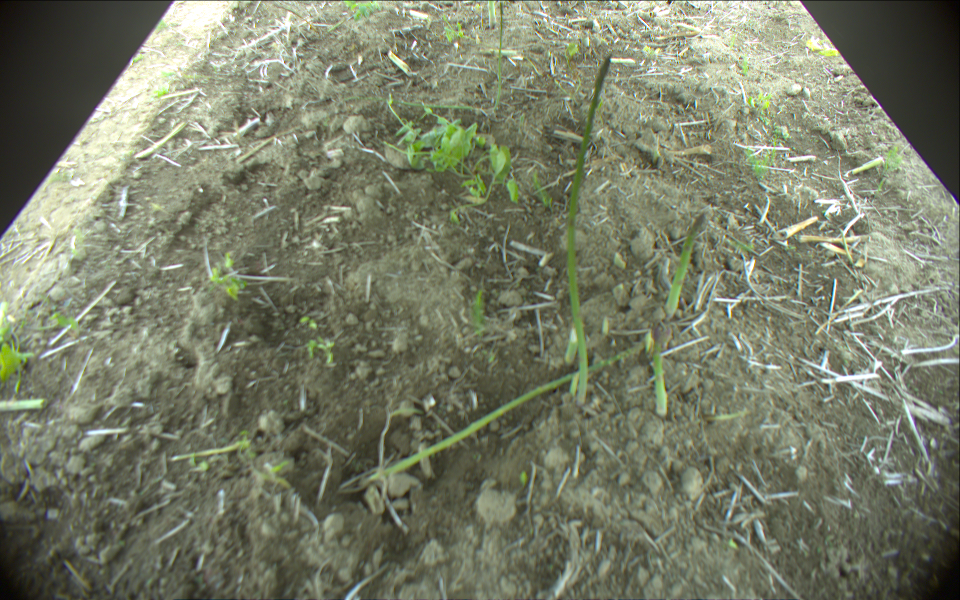aspa: (371, 335, 651, 481), (567, 55, 611, 404), (664, 213, 705, 316), (651, 327, 668, 414), (401, 97, 491, 113), (493, 1, 505, 111), (847, 156, 884, 177), (1, 398, 48, 414), (564, 327, 576, 368), (487, 1, 497, 29), (477, 48, 518, 54)
